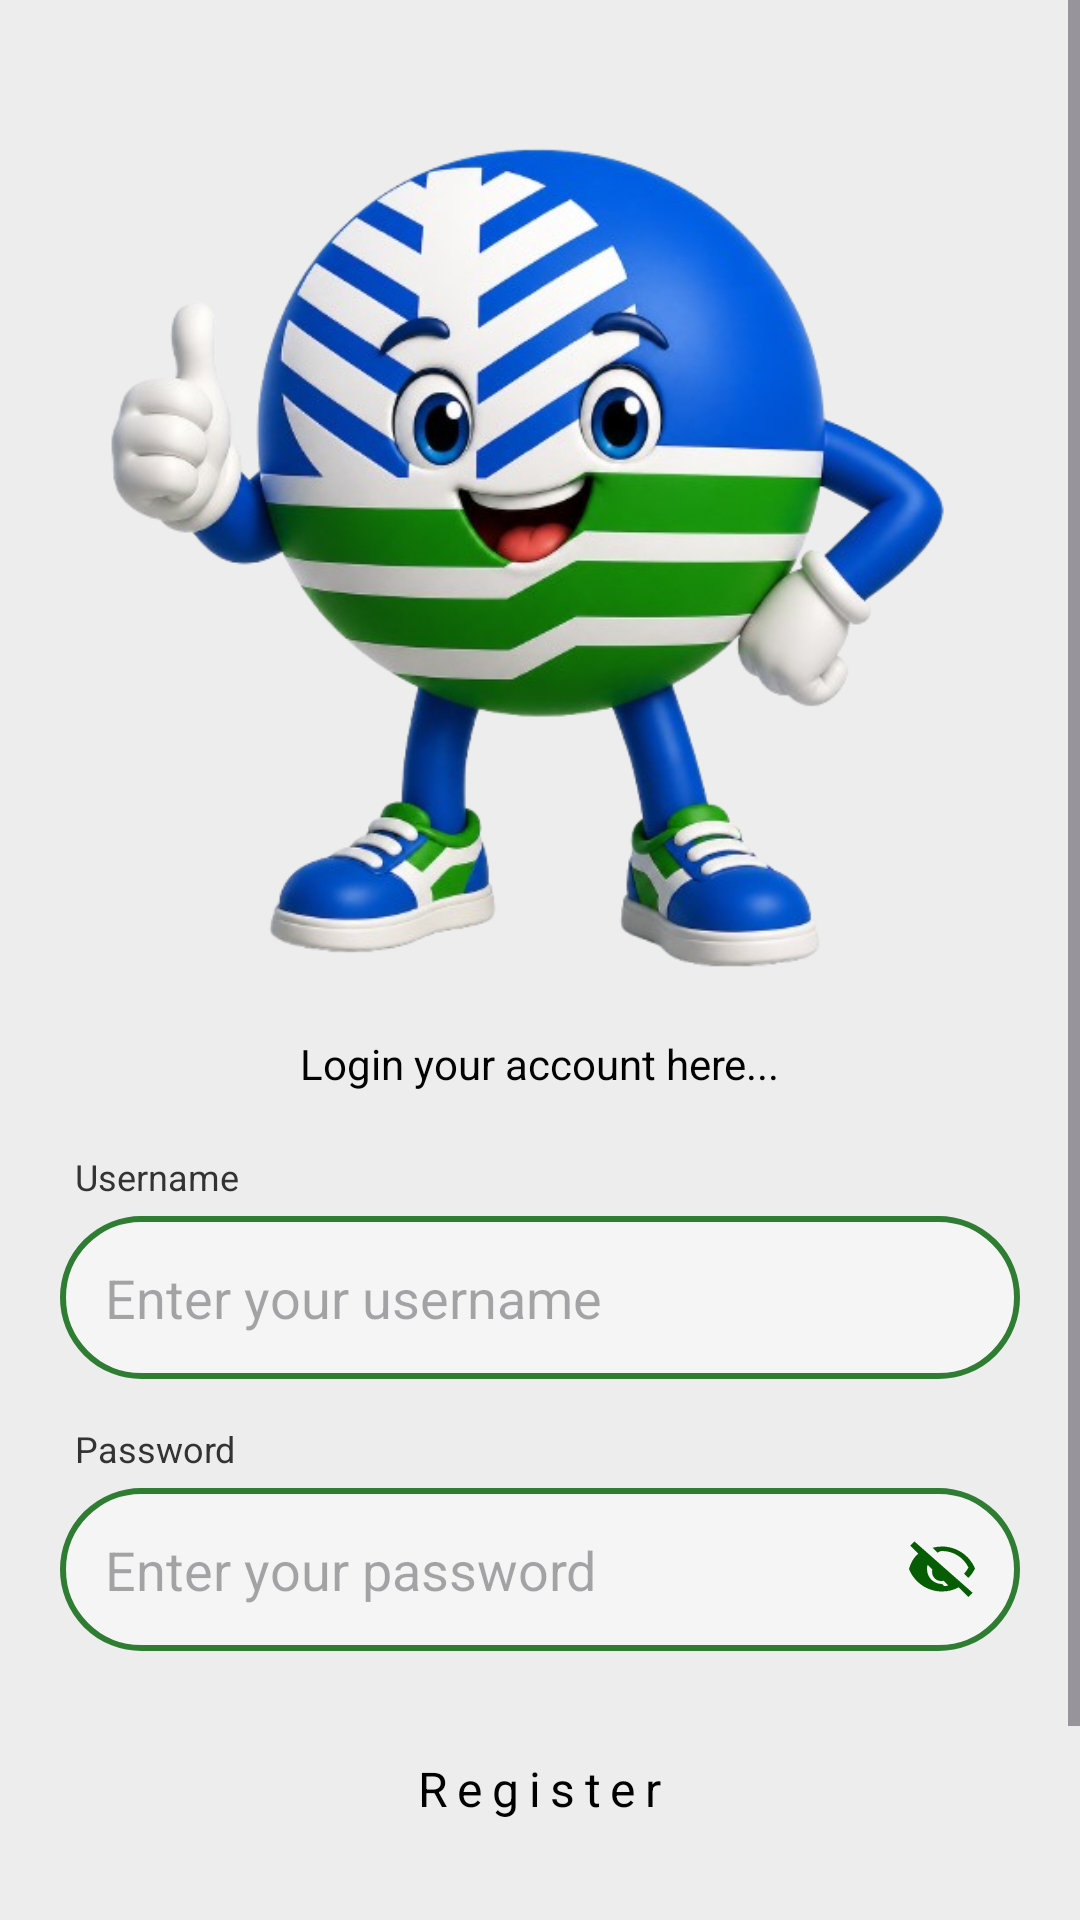

Point at icon controls on the screen. Image size 1080w x 1920h, points as [x,y].
Toggle password visibility: [942,1569]
